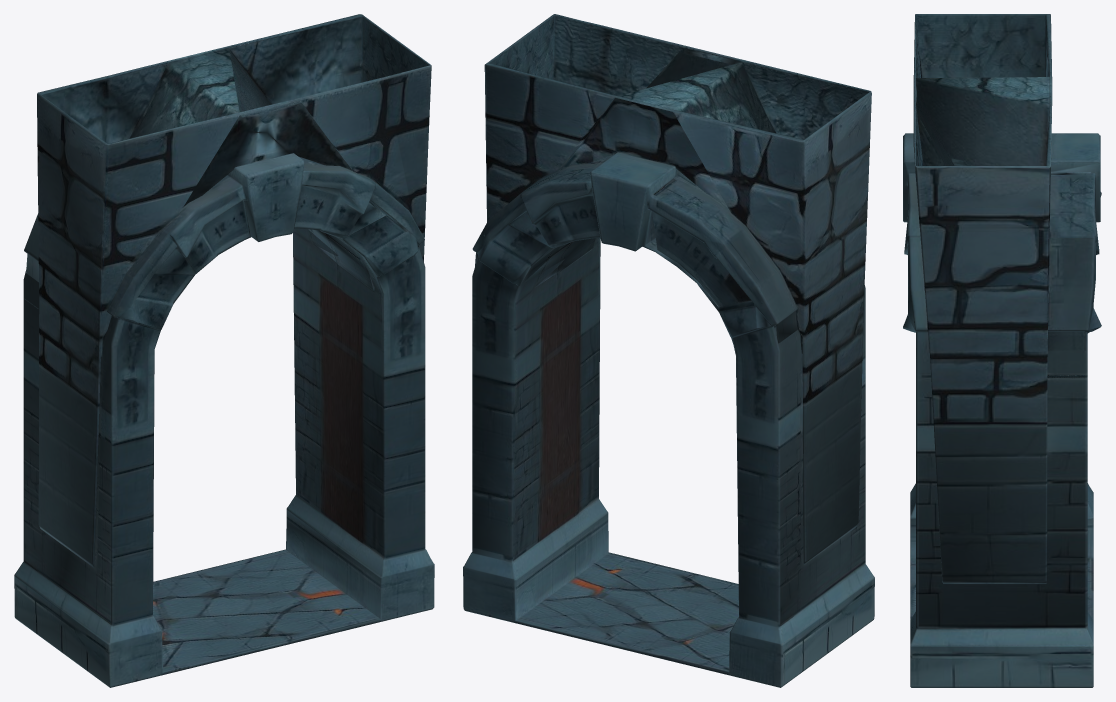
The model's file is kit-doorframe.glb.
3 views of the same model, side by side, from view 1: azimuth 30°, elevation 25°; view 2: azimuth 150°, elevation 25°; view 3: azimuth 270°, elevation 25° (orthographic). The views are drawn at different scales.
Bounding box in the file's own units: 1.2 × 1.91 × 0.6575.
Materials: 1 (1 with a texture image).
